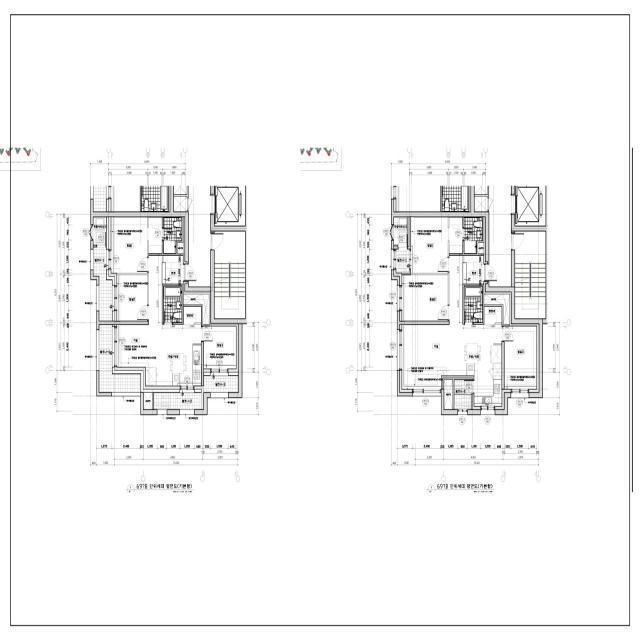space_balconi: (99, 325, 141, 392), (93, 247, 112, 321), (154, 393, 201, 409), (204, 376, 238, 392), (454, 380, 471, 409), (396, 249, 409, 273)
space_bedroom: (505, 326, 539, 389), (402, 275, 448, 321), (411, 217, 448, 273), (111, 217, 147, 273), (204, 326, 239, 369), (117, 275, 147, 321)
space_elevator: (210, 186, 245, 226), (511, 186, 546, 226)
space_elevator_hall: (188, 186, 210, 287), (489, 186, 511, 286)
space_front: (464, 256, 485, 284), (164, 256, 183, 284)
space_kitchen: (143, 342, 201, 386), (463, 342, 502, 406)
space_living_room: (402, 256, 502, 389), (117, 256, 201, 367)
space_other: (484, 292, 512, 324), (184, 291, 211, 324), (149, 218, 162, 253), (449, 218, 462, 253), (394, 217, 408, 247), (93, 217, 107, 247), (484, 307, 502, 323), (184, 307, 201, 323), (444, 380, 453, 409), (144, 393, 152, 409), (478, 243, 484, 253), (177, 243, 183, 253)
space_staircase: (214, 232, 245, 318), (515, 232, 546, 318)
space_toilet: (464, 217, 483, 254), (464, 286, 483, 322), (164, 217, 182, 254), (164, 286, 182, 322)
